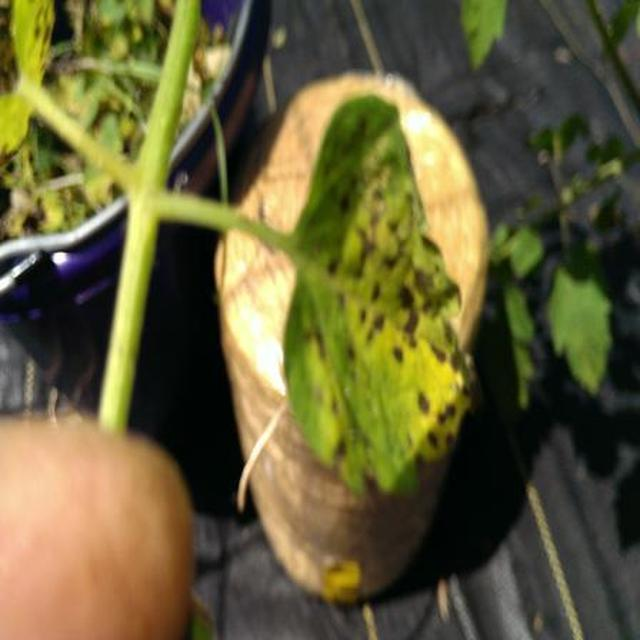Septoria Leaf: (396, 124, 640, 640)
